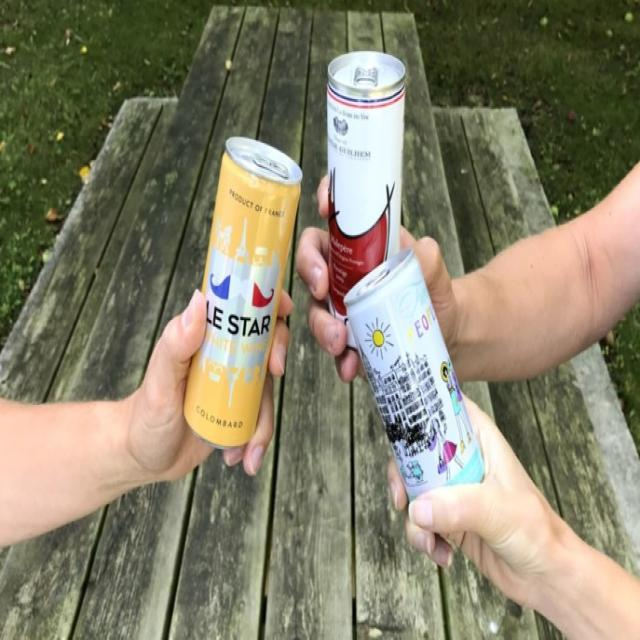can: (184, 134, 303, 450), (344, 251, 486, 515), (326, 49, 406, 322)
